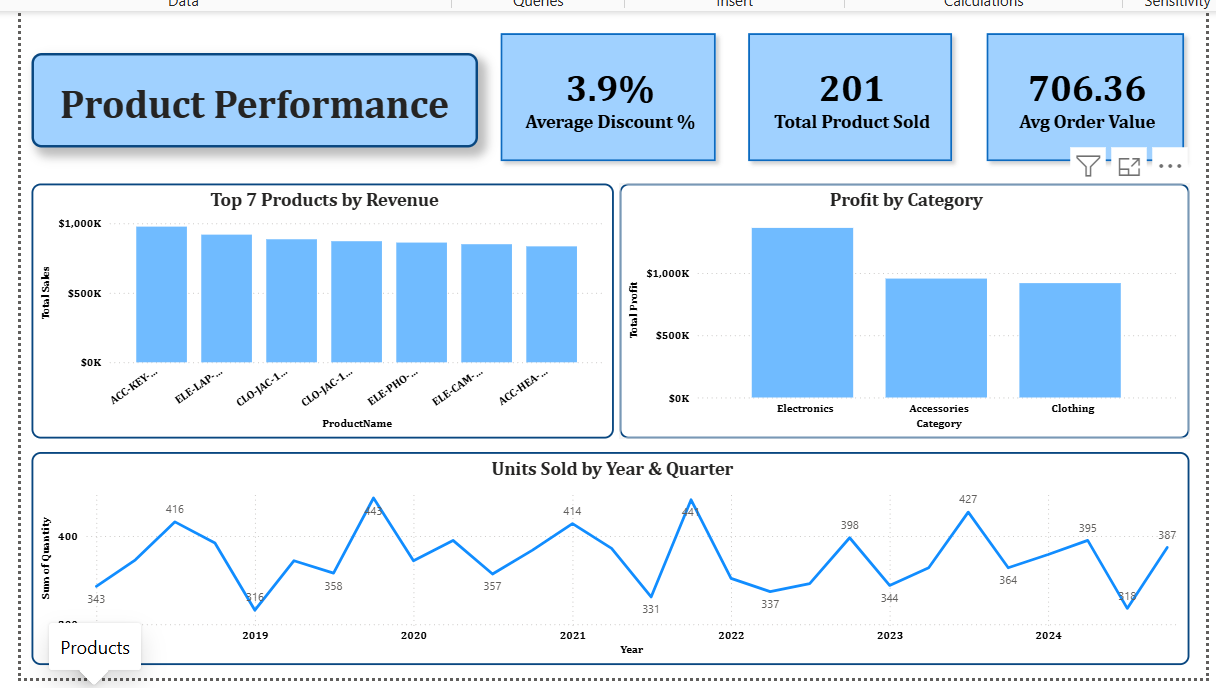

The dashboard page shown, as its layout file describes it:
{"tool":"powerbi","page":{"name":"Products","canvas":[1280,720],"ordinal":1},"visuals":[{"type":"cardVisual","fields":{"Data":["My Measures.Avg_Discount_%"]},"box":[493.3,0,280,186.7],"z":0},{"type":"textbox","box":[11.7,45,481.7,101.7],"z":1000},{"type":"cardVisual","fields":{"Data":["My Measures.Avg_Order_Value"]},"box":[1018.3,0,261.7,186.7],"z":2000},{"type":"cardVisual","fields":{"Data":["My Measures.Total Product Sold"]},"box":[761.7,0,268.3,186.7],"z":3000},{"type":"columnChart","title":"Top 7 Products by Revenue","fields":{"Y":["My Measures.Total_Sales"],"Category":["Products.ProductName"]},"box":[11.7,186.7,628.3,275],"z":4000},{"type":"columnChart","title":"Profit by Category","fields":{"Y":["My Measures.Total Profit"],"Category":["Products.Category"]},"box":[646.7,186.7,615,275],"z":5000},{"type":"lineChart","title":"Units Sold by Year & Quarter","fields":{"Category":["Dates.Date.Variation.Date Hierarchy.Year","Dates.Date.Variation.Date Hierarchy.Quarter"],"Y":["Sum(Sales.Quantity)"]},"box":[11.7,476.7,1250,230],"z":6000}]}

Visuals, with their boxes on the page's 1280x720 design canvas (x1, y1, x2, y2). These are canvas units, not pixel positions in the 1216x688 screenshot, which may show the page scaled, cropped or inside an application window:
cardVisual - My Measures.Avg_Discount_%: <bbox>493, 0, 773, 187</bbox>
textbox: <bbox>12, 45, 493, 147</bbox>
cardVisual - My Measures.Avg_Order_Value: <bbox>1018, 0, 1280, 187</bbox>
cardVisual - My Measures.Total Product Sold: <bbox>762, 0, 1030, 187</bbox>
"Top 7 Products by Revenue" columnChart: <bbox>12, 187, 640, 462</bbox>
"Profit by Category" columnChart: <bbox>647, 187, 1262, 462</bbox>
"Units Sold by Year & Quarter" lineChart: <bbox>12, 477, 1262, 707</bbox>
